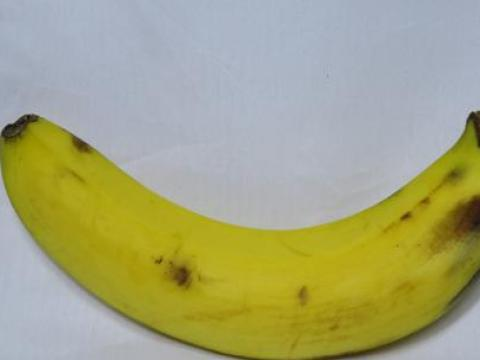freshripe: (2, 99, 479, 359)
